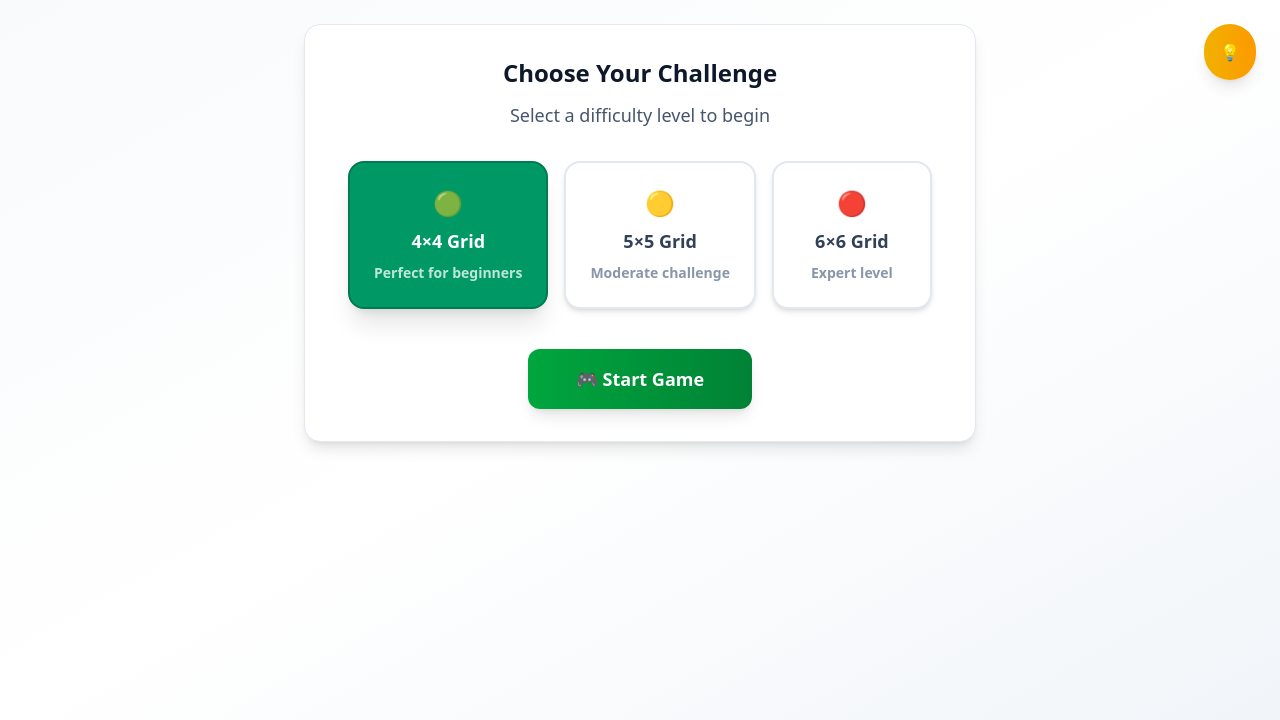
it: GridGame Component - Core Functionality › ✅ Individual Component Rendering › should render game grid after starting
Click the button with test id "start-game-btn".
click(640, 379)  # box [528,349,752,409]
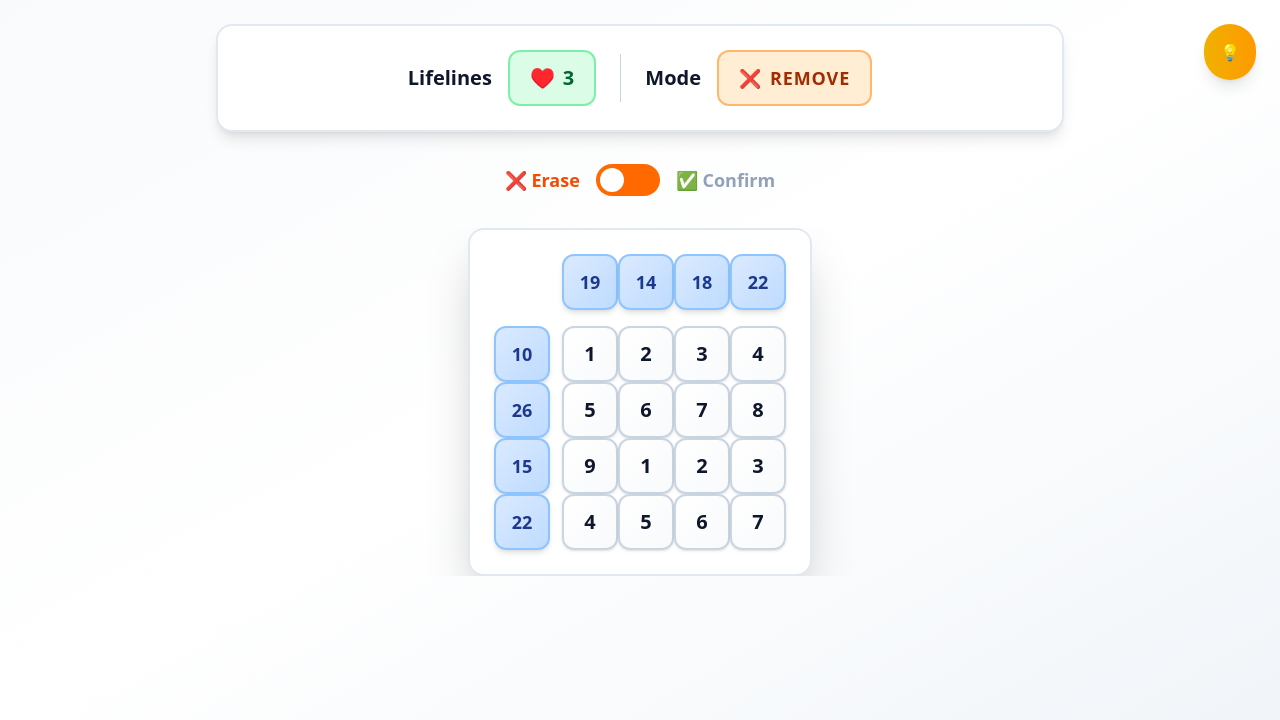
Now the element with test id "cell-0-0" is shown, box [562,326,618,382]
Now the element with test id "cell-3-3" is shown, box [730,494,786,550]
